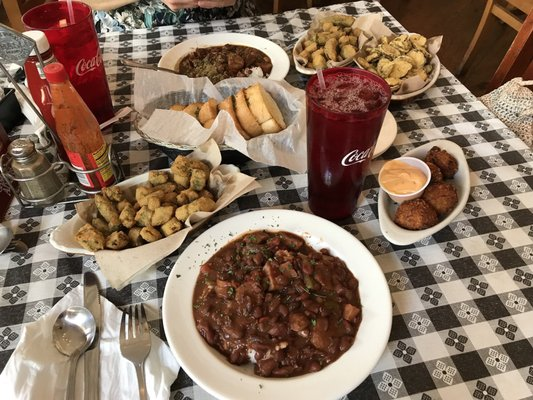salad: (53, 307, 97, 400), (52, 307, 96, 359)
sushi: (161, 209, 394, 400), (378, 139, 471, 247), (157, 32, 290, 95)
